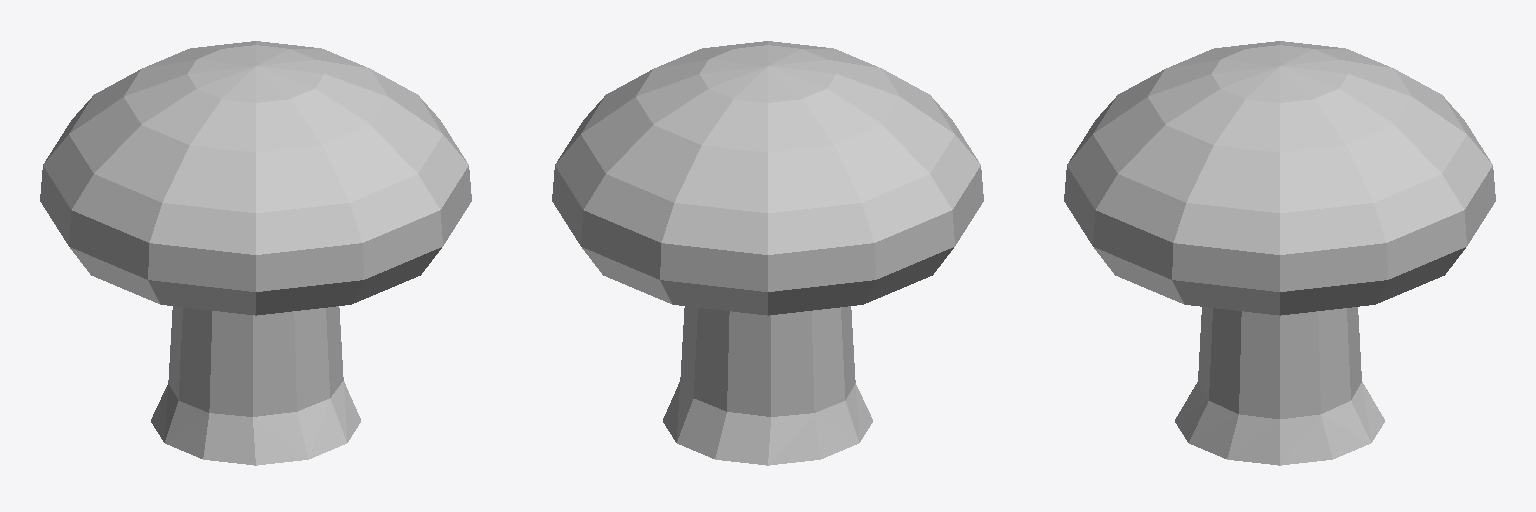
The model's file is Mushroom_Dark_Red.obj.
3 views of the same model, side by side, from view 1: azimuth 30°, elevation 25°; view 2: azimuth 150°, elevation 25°; view 3: azimuth 270°, elevation 25° (orthographic).
Parts seen in each view (by area): view 1: Sphere.018_Sphere.025; view 2: Sphere.018_Sphere.025; view 3: Sphere.018_Sphere.025.
Boxes of the visible parts, box(x1,y1,x2,y2) form: Sphere.018_Sphere.025: box(40, 41, 471, 465); Sphere.018_Sphere.025: box(552, 41, 983, 465); Sphere.018_Sphere.025: box(1064, 41, 1495, 465).
Size of the model in its own units: 0.2275 by 0.2205 by 0.2275.